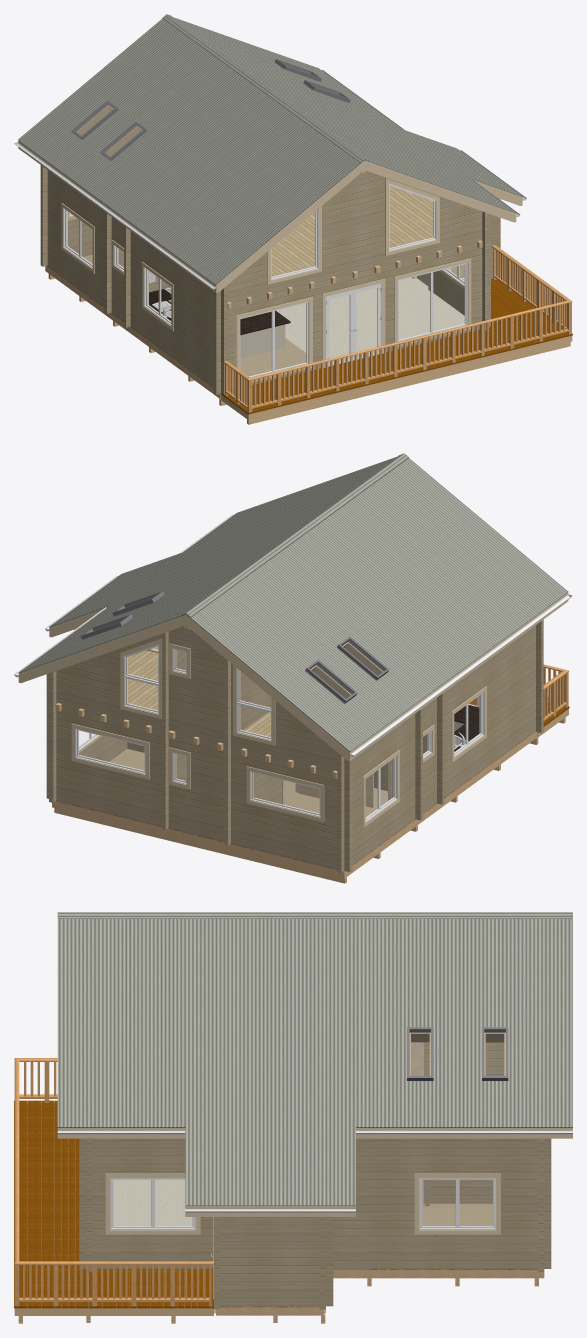
Rendered from scandi-hawk-y0.glb.
3 renders of one model, top to bottom at view 1: azimuth 30°, elevation 25°; view 2: azimuth 150°, elevation 25°; view 3: azimuth 270°, elevation 25°, orthographic. The views are drawn at different scales.
Visible parts, largest first — view 1: Object_20, Object_13, Object_21, Object_9, Object_39, Object_3, Object_22, Object_34, Object_43, Object_11, Object_24, Object_29 (+2 smaller); view 2: Object_20, Object_13, Object_9, Object_22, Object_34, Object_11, Object_24, Object_43, Object_29, Object_21, Object_23, Object_40; view 3: Object_20, Object_13, Object_39, Object_9, Object_21, Object_22, Object_3, Object_29, Object_11, Object_34, Object_24.
Part boxes in pixels (x1=…): Object_20: x1=18, y1=14, x2=522, y2=284; Object_13: x1=40, y1=165, x2=500, y2=394; Object_21: x1=224, y1=245, x2=572, y2=412; Object_9: x1=18, y1=140, x2=522, y2=382; Object_39: x1=220, y1=278, x2=572, y2=414; Object_3: x1=276, y1=277, x2=464, y2=358; Object_22: x1=45, y1=170, x2=572, y2=424; Object_34: x1=63, y1=183, x2=467, y2=377; Object_43: x1=271, y1=186, x2=433, y2=276; Object_11: x1=77, y1=105, x2=464, y2=376; Object_24: x1=71, y1=59, x2=350, y2=160; Object_29: x1=14, y1=69, x2=526, y2=289; Object_20: x1=18, y1=453, x2=568, y2=751; Object_13: x1=46, y1=620, x2=543, y2=873; Object_9: x1=18, y1=592, x2=568, y2=828; Object_22: x1=52, y1=625, x2=568, y2=883; Object_34: x1=75, y1=644, x2=484, y2=821; Object_11: x1=109, y1=642, x2=387, y2=816; Object_24: x1=80, y1=591, x2=388, y2=703; Object_43: x1=128, y1=646, x2=270, y2=736; Object_29: x1=14, y1=514, x2=572, y2=756; Object_21: x1=543, y1=664, x2=568, y2=720; Object_23: x1=454, y1=705, x2=479, y2=751; Object_40: x1=56, y1=650, x2=535, y2=871; Object_20: x1=57, y1=912, x2=572, y2=1205; Object_13: x1=79, y1=1042, x2=551, y2=1309; Object_39: x1=14, y1=1100, x2=213, y2=1308; Object_9: x1=57, y1=1042, x2=572, y2=1298; Object_21: x1=14, y1=1058, x2=213, y2=1306; Object_22: x1=14, y1=1102, x2=544, y2=1323; Object_3: x1=113, y1=1179, x2=192, y2=1225; Object_29: x1=57, y1=1130, x2=572, y2=1212; Object_11: x1=116, y1=1032, x2=505, y2=1313; Object_34: x1=110, y1=1178, x2=495, y2=1229; Object_24: x1=407, y1=1027, x2=508, y2=1080.
Bounding box in the file's own units: 11.42 × 6.68 × 11.66.
30 materials, 13 textured.
